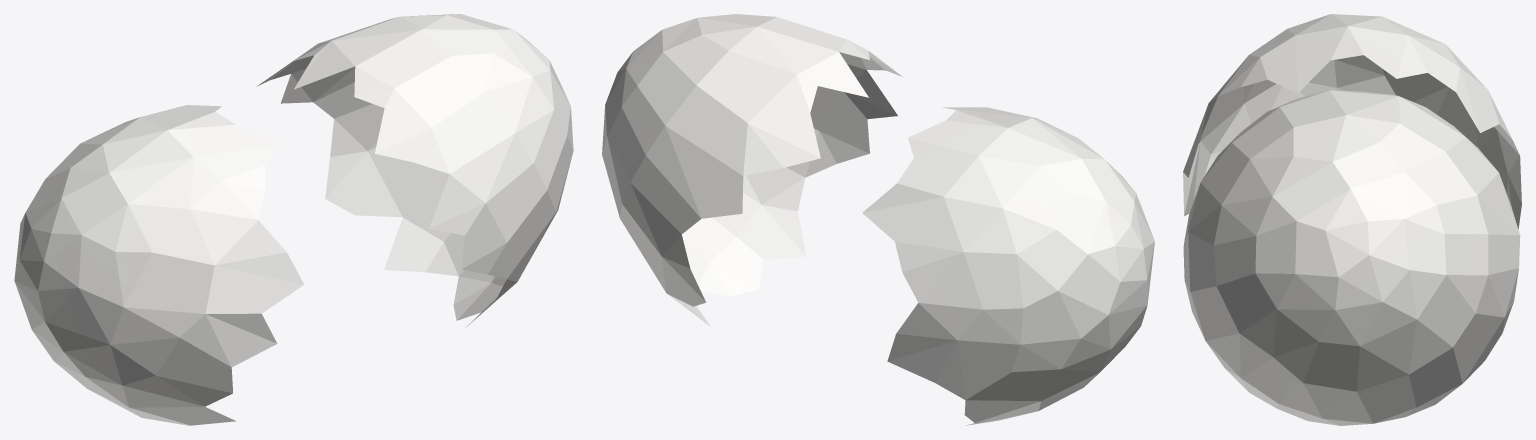
Rendered from CrackingEggs-1.obj.
3 renders of one model, left to right at view 1: azimuth 30°, elevation 25°; view 2: azimuth 150°, elevation 25°; view 3: azimuth 270°, elevation 25°, orthographic. The views are drawn at different scales.
Parts seen in each view (by area): view 1: Sphere.002; view 2: Sphere.002; view 3: Sphere.002.
Boxes of the visible parts, x1,y1,x2,y2 form: Sphere.002: [14, 14, 573, 425]; Sphere.002: [602, 14, 1154, 425]; Sphere.002: [1183, 14, 1521, 425].
Size of the model in its own units: 0.1011 by 0.0595 by 0.0534.
